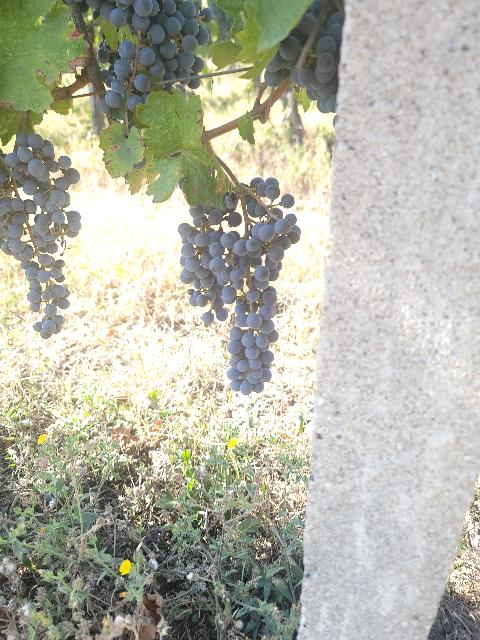grapes: (224, 206, 300, 395), (90, 0, 209, 114), (0, 158, 70, 339), (5, 132, 81, 246), (179, 204, 240, 324)
